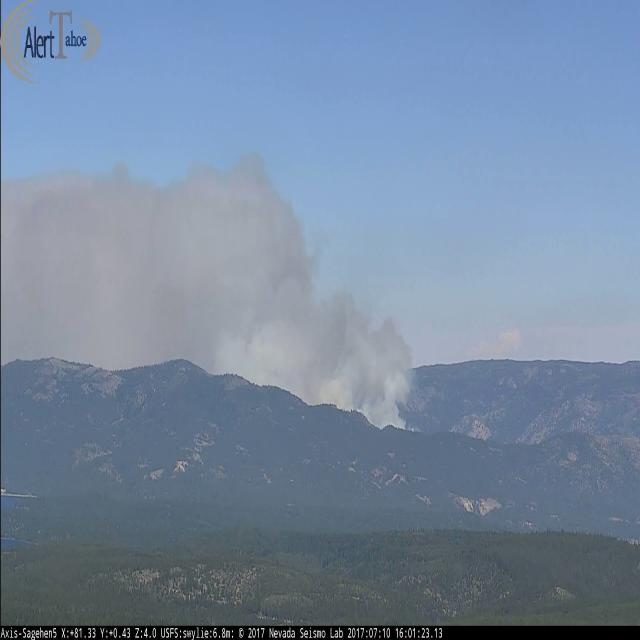smoke: (0, 146, 415, 445)
